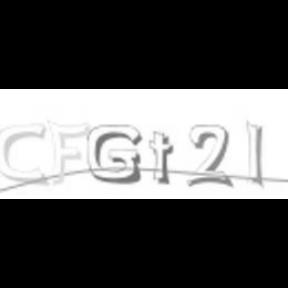2: (184, 122, 234, 188)
C: (0, 120, 48, 186)
F: (46, 121, 92, 185)
G: (86, 124, 142, 186)
I: (244, 119, 268, 191)
t: (147, 130, 173, 186)
